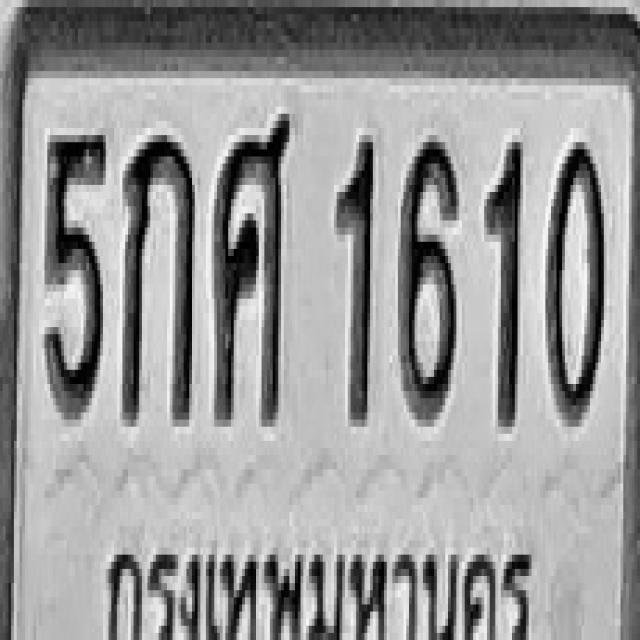0: (545, 135, 604, 420)
1: (336, 132, 374, 423), (486, 135, 522, 427)
10GorGai: (122, 128, 195, 420)
47SorSala: (214, 110, 290, 423)
5: (44, 128, 106, 420)
6: (399, 135, 458, 420)
Bangkok: (90, 516, 540, 640)
